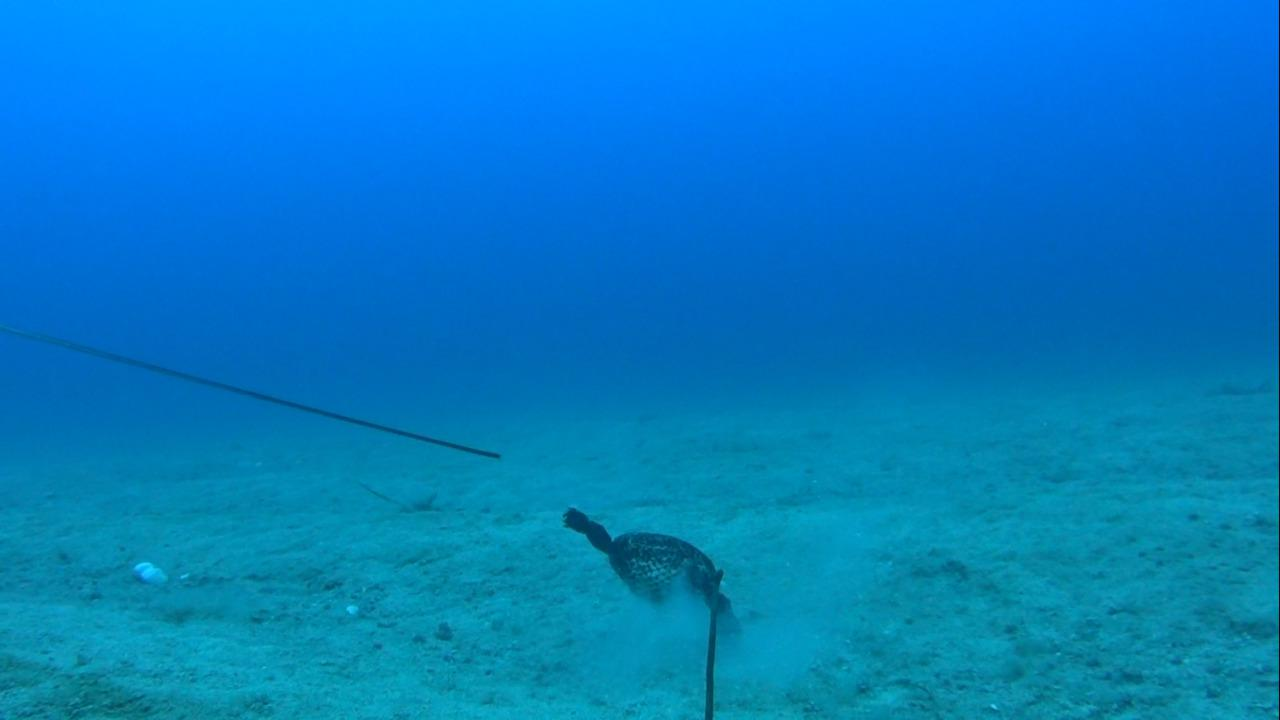myliobatis: (1, 311, 506, 463)
